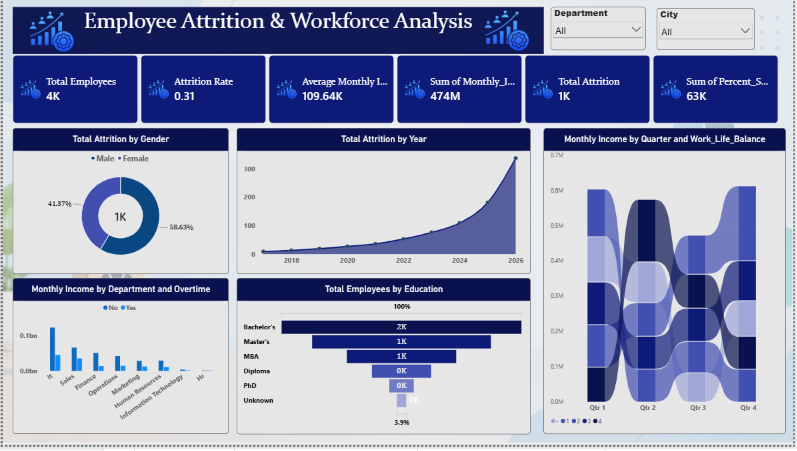

The page's visual inventory and layout, read from the dashboard file:
{"tool":"powerbi","page":{"name":"Dashboard","canvas":[1920,1080],"ordinal":1},"visuals":[{"type":"textbox","box":[24.3,17,1289.7,114.2],"z":0},{"type":"cardVisual","fields":{"Data":["Emp cleaned data.Total Employees","Emp cleaned data.Attrition Rate","Emp cleaned data.Average Monthly Income","Sum(Emp cleaned data.Monthly_Income)","Emp cleaned data.Total Attrition","Sum(Emp cleaned data.Percent_Salary_Hike)"]},"box":[24.3,133.6,1860.5,167.6],"z":1000},{"type":"image","box":[1165.8,17,116.6,114.2],"z":2000},{"type":"image","box":[55.9,19.4,126.3,114.2],"z":3000},{"type":"donutChart","fields":{"Category":["Emp cleaned data.Gender"],"Y":["Emp cleaned data.Total Attrition"]},"box":[24.3,310.9,524.6,354.6],"z":4000},{"type":"clusteredColumnChart","title":"Monthly Income by Department and Overtime","fields":{"Category":["Emp cleaned data.Department"],"Series":["Emp cleaned data.Overtime"],"Y":["Sum(Emp cleaned data.Monthly_Income)"]},"box":[24.3,675.2,524.6,378.9],"z":5000},{"type":"areaChart","fields":{"Category":["Emp cleaned data.Exit_Date.Variation.Date Hierarchy.Year"],"Y":["Emp cleaned data.Total Attrition"]},"box":[568.3,310.9,714.1,354.6],"z":6000},{"type":"funnel","fields":{"Category":["Emp cleaned data.Education"],"Y":["Emp cleaned data.Total Employees"]},"box":[568,675,714,379],"z":7000},{"type":"ribbonChart","title":"Monthly Income by Quarter and Work_Life_Balance","fields":{"Category":["Emp cleaned data.Hire_Date.Variation.Date Hierarchy.Quarter"],"Series":["Emp cleaned data.Work_Life_Balance"],"Y":["Emp cleaned data.Average Monthly Income"]},"box":[1314,310.9,587.8,743.2],"z":8000},{"type":"slicer","fields":{"Values":["Emp cleaned data.Department"]},"box":[1331,17,230.7,104.4],"z":9000},{"type":"slicer","fields":{"Values":["Emp cleaned data.City"]},"box":[1588.5,19.4,238,102],"z":10000}]}

Visuals, with their boxes in screenshot pixels (x1, y1, x2, y2), scaled from the page's 1920x1080 canvas onto the 797x451 screenshot:
textbox: 10 7 545 55
cardVisual - Emp cleaned data.Total Employees x Emp cleaned data.Attrition Rate: 10 56 782 126
image: 484 7 532 55
image: 23 8 76 56
donutChart - Emp cleaned data.Gender x Emp cleaned data.Total Attrition: 10 130 228 278
"Monthly Income by Department and Overtime" clusteredColumnChart: 10 282 228 440
areaChart - Emp cleaned data.Exit_Date.Variation.Date Hierarchy.Year x Emp cleaned data.Total Attrition: 236 130 532 278
funnel - Emp cleaned data.Education x Emp cleaned data.Total Employees: 236 282 532 440
"Monthly Income by Quarter and Work_Life_Balance" ribbonChart: 545 130 789 440
slicer - Emp cleaned data.Department: 553 7 648 51
slicer - Emp cleaned data.City: 659 8 758 51
